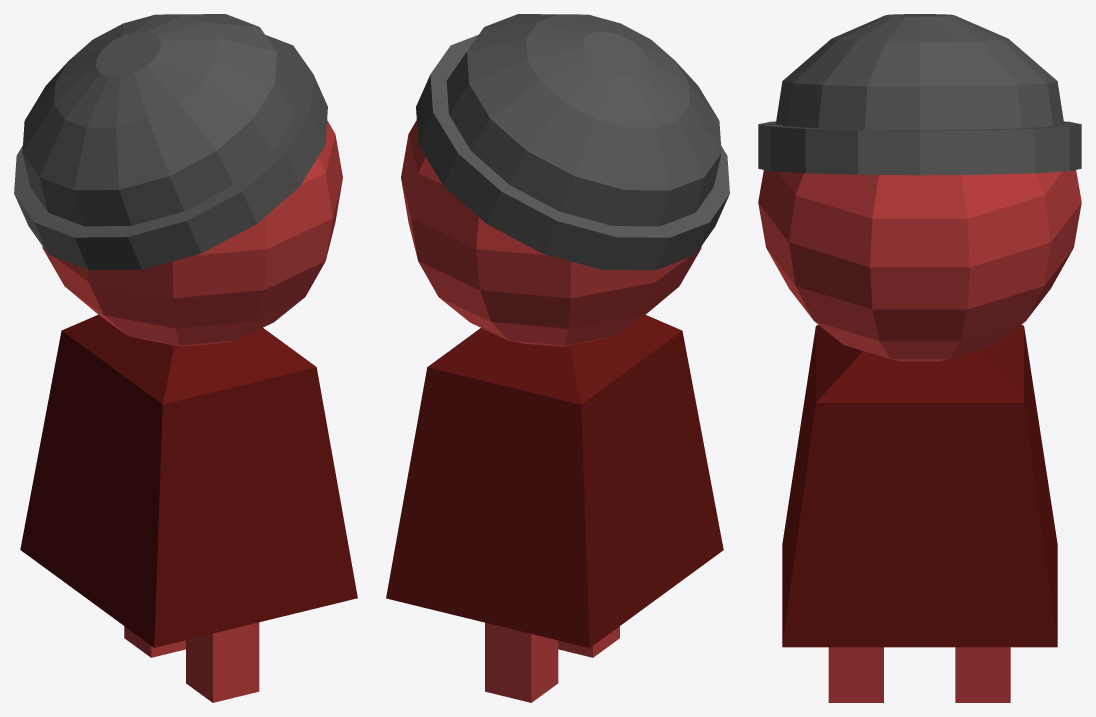
Rendered from GGJREDPlayer.fbx.
3 renders of one model, left to right at view 1: azimuth 30°, elevation 25°; view 2: azimuth 150°, elevation 25°; view 3: azimuth 270°, elevation 25°, orthographic. The views are drawn at different scales.
Visible parts, largest first — view 1: Body, Beanie, Head, leg, legg; view 2: Body, Beanie, Head, legg, leg; view 3: Body, Head, Beanie, leg, legg.
Boxes of the visible parts, x1=… form: Body: x1=20, y1=314, x2=357, y2=647; Beanie: x1=14, y1=14, x2=327, y2=270; Head: x1=42, y1=120, x2=342, y2=346; leg: x1=186, y1=622, x2=259, y2=702; legg: x1=124, y1=626, x2=185, y2=657; Body: x1=386, y1=315, x2=723, y2=647; Beanie: x1=416, y1=14, x2=729, y2=270; Head: x1=401, y1=120, x2=701, y2=346; legg: x1=485, y1=622, x2=558, y2=702; leg: x1=558, y1=626, x2=619, y2=657; Body: x1=782, y1=325, x2=1057, y2=647; Head: x1=758, y1=170, x2=1081, y2=361; Beanie: x1=758, y1=14, x2=1081, y2=175; leg: x1=828, y1=647, x2=883, y2=702; legg: x1=955, y1=647, x2=1010, y2=702.
Size of the model in its own units: 209 by 448 by 200.
